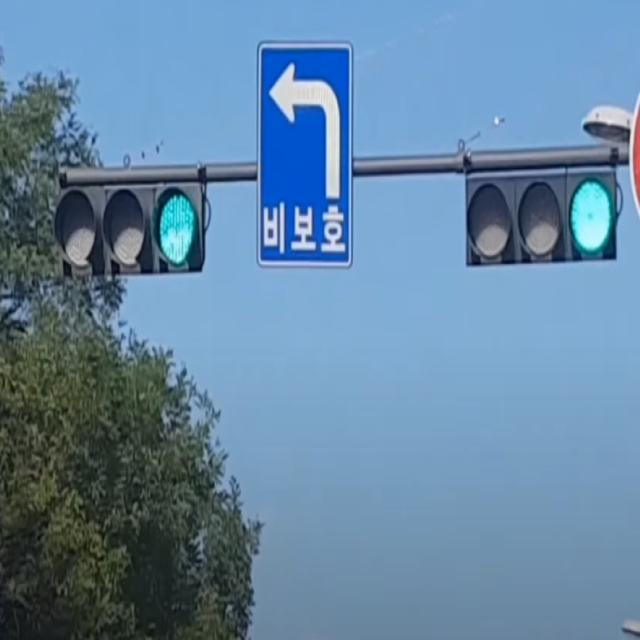Green Light: (150, 185, 202, 273), (567, 173, 616, 261)
